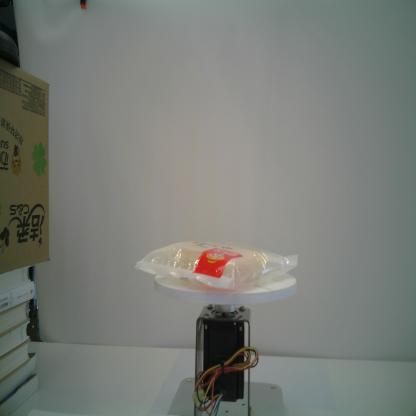Dessert: (131, 235, 300, 290)
